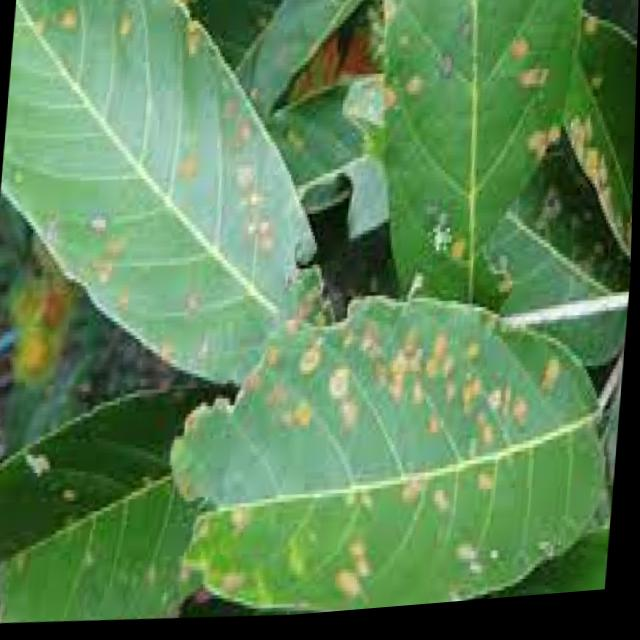Algal Leaf Spot: (363, 313, 464, 448), (460, 321, 549, 461), (291, 337, 365, 449), (564, 120, 630, 240), (230, 164, 292, 282), (504, 26, 563, 121), (319, 526, 385, 607), (404, 473, 466, 525), (384, 63, 432, 128), (90, 221, 126, 301), (172, 6, 209, 66), (37, 0, 86, 39), (111, 3, 148, 45), (449, 231, 475, 284), (173, 141, 205, 183), (475, 470, 496, 506)
